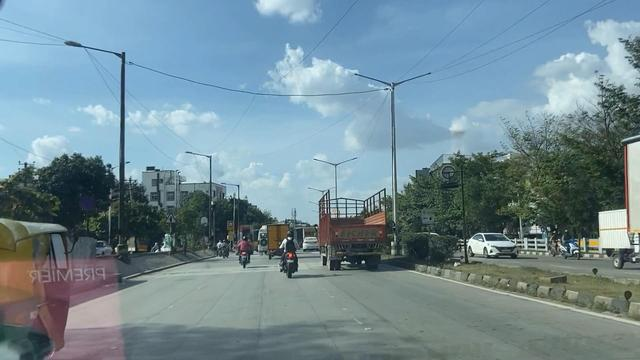HMV: (319, 191, 387, 267)
LMV: (0, 221, 72, 360), (273, 225, 300, 275)
